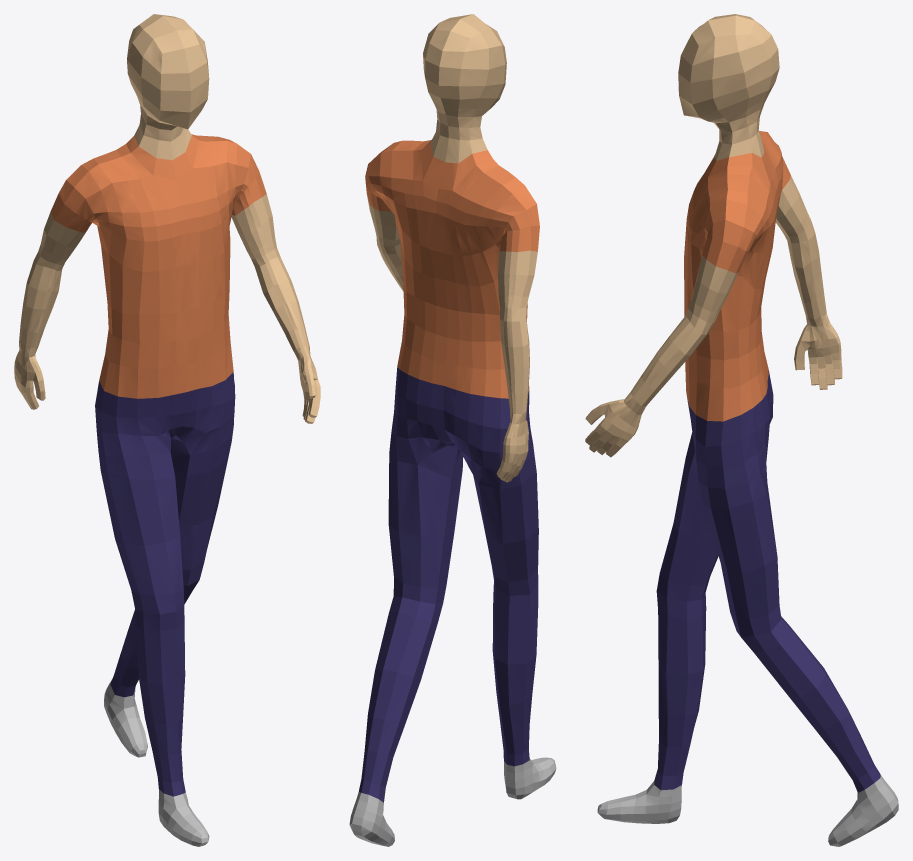
The model's file is Man_2.glb.
3 renders of one model, left to right at view 1: azimuth 30°, elevation 25°; view 2: azimuth 150°, elevation 25°; view 3: azimuth 270°, elevation 25°, orthographic. The views are drawn at different scales.
Parts seen in each view (by area): view 1: Man; view 2: Man; view 3: Man.
Part boxes in pixels (x1,y1,x2,y2): Man: [14, 14, 320, 846]; Man: [349, 14, 556, 846]; Man: [585, 14, 898, 846].
Size of the model in its own units: 2.8 by 10.22 by 3.55.
